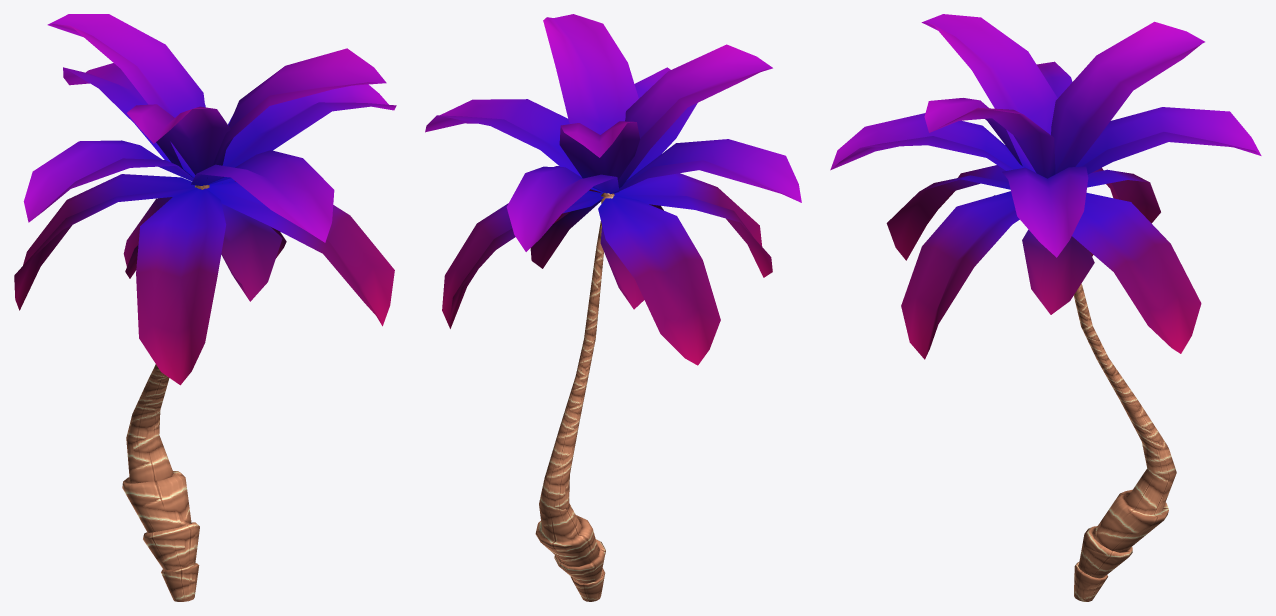
File: Tree_Palmier_08.fbx
The picture shows the model from 3 angles, left to right: view 1: azimuth 30°, elevation 25°; view 2: azimuth 150°, elevation 25°; view 3: azimuth 270°, elevation 25°; orthographic projection. The views are drawn at different scales.
Parts seen in each view (by area): view 1: Palmier_08; view 2: Palmier_08; view 3: Palmier_08.
Part boxes in pixels (<box>): Palmier_08: <box>14,14,396,601</box>; Palmier_08: <box>425,14,801,601</box>; Palmier_08: <box>830,14,1261,601</box>.
Bounding box in the file's own units: 370 × 514 × 371.
